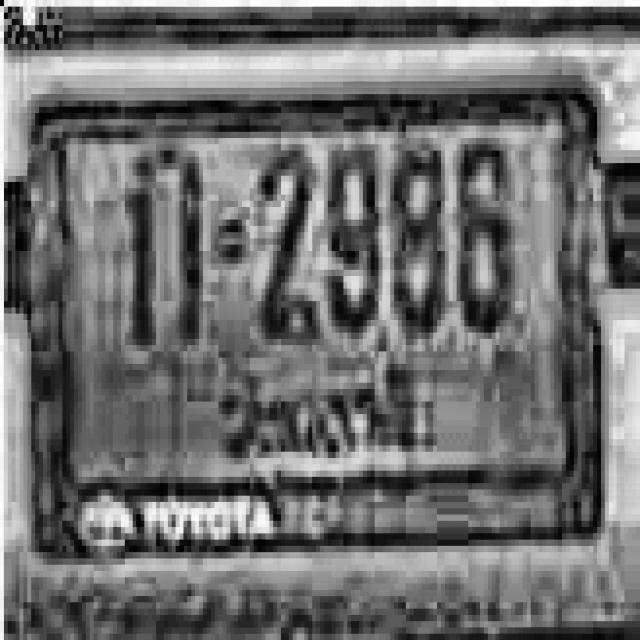license-plate: (22, 68, 604, 560)
